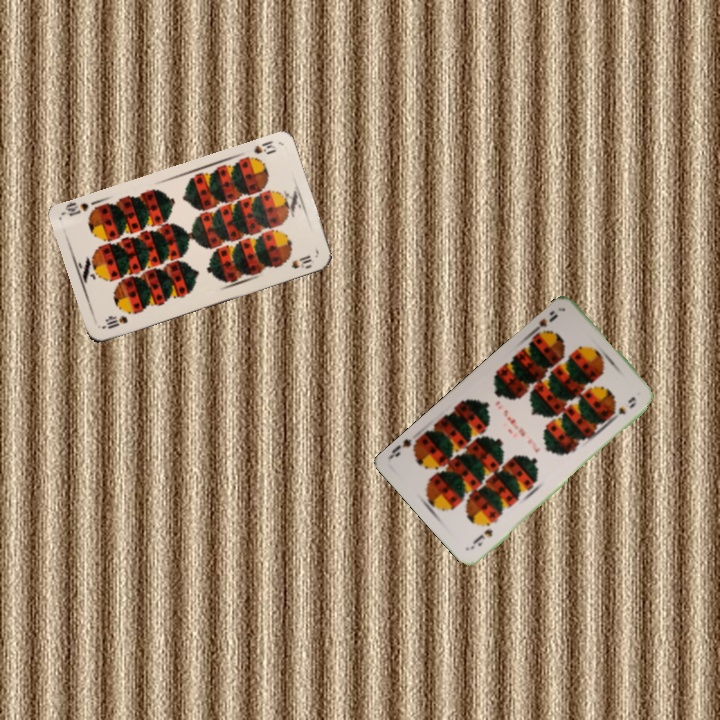S10: (99, 311, 130, 331), (250, 136, 279, 157)
S9: (527, 310, 561, 340), (473, 525, 495, 549)
